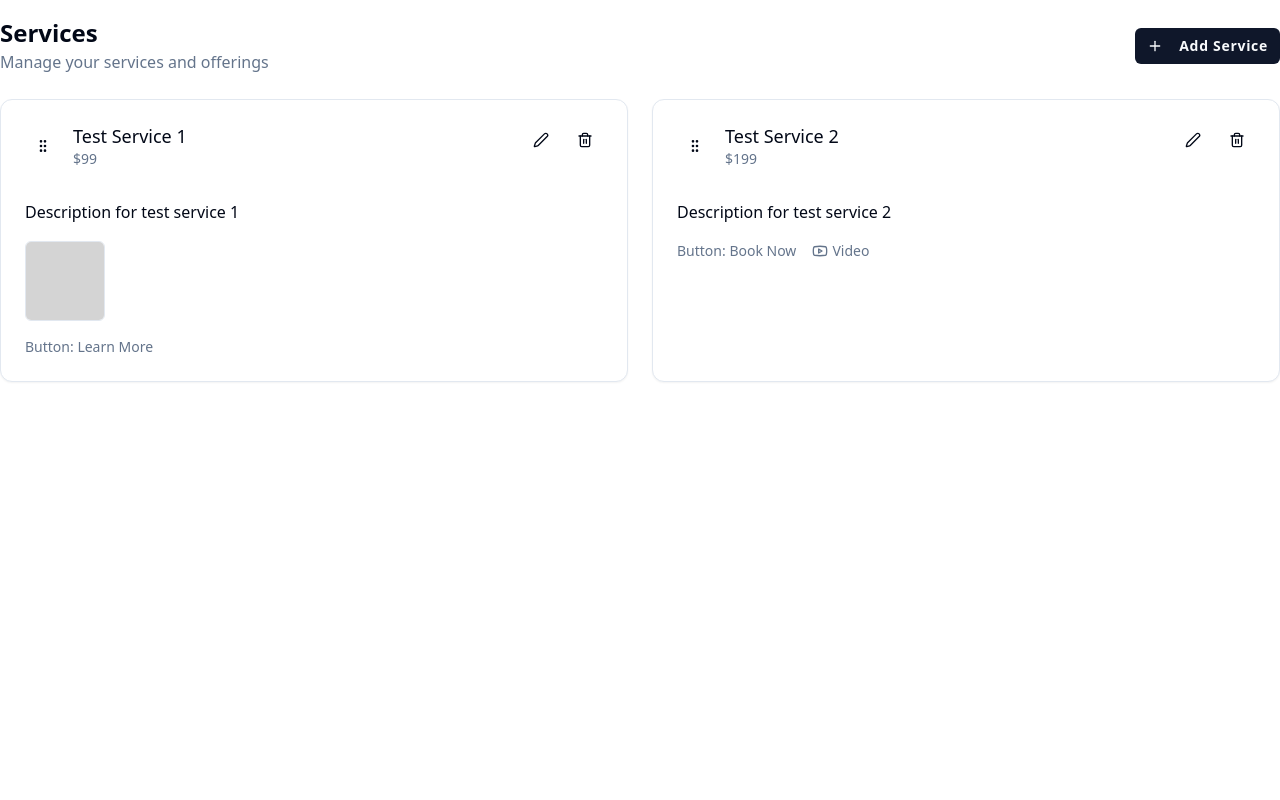
Test: Dashboard Integration Tests › should handle loading states during operations
Step 1. Click the button "Add Service" → (1208, 46), box [1135,28,1279,64]
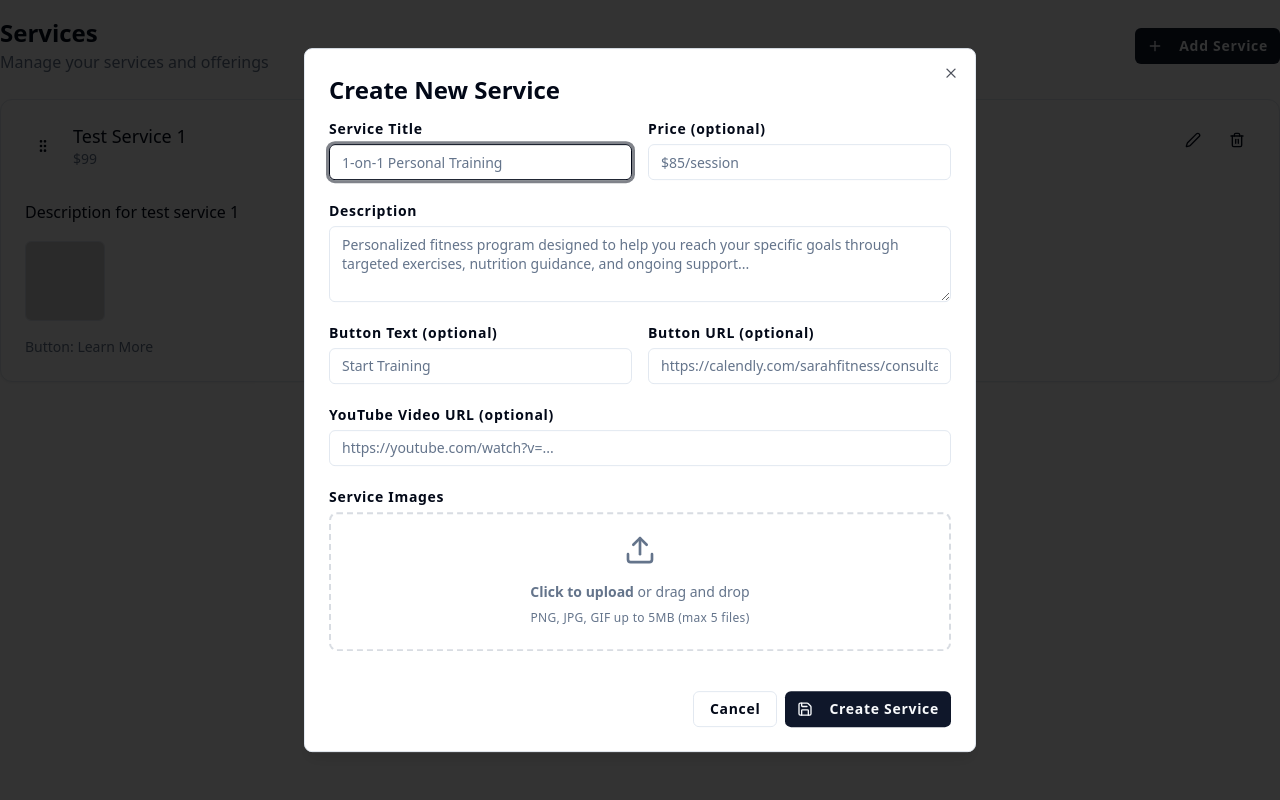
Step 2. Submit the form, box [329,122,951,727]
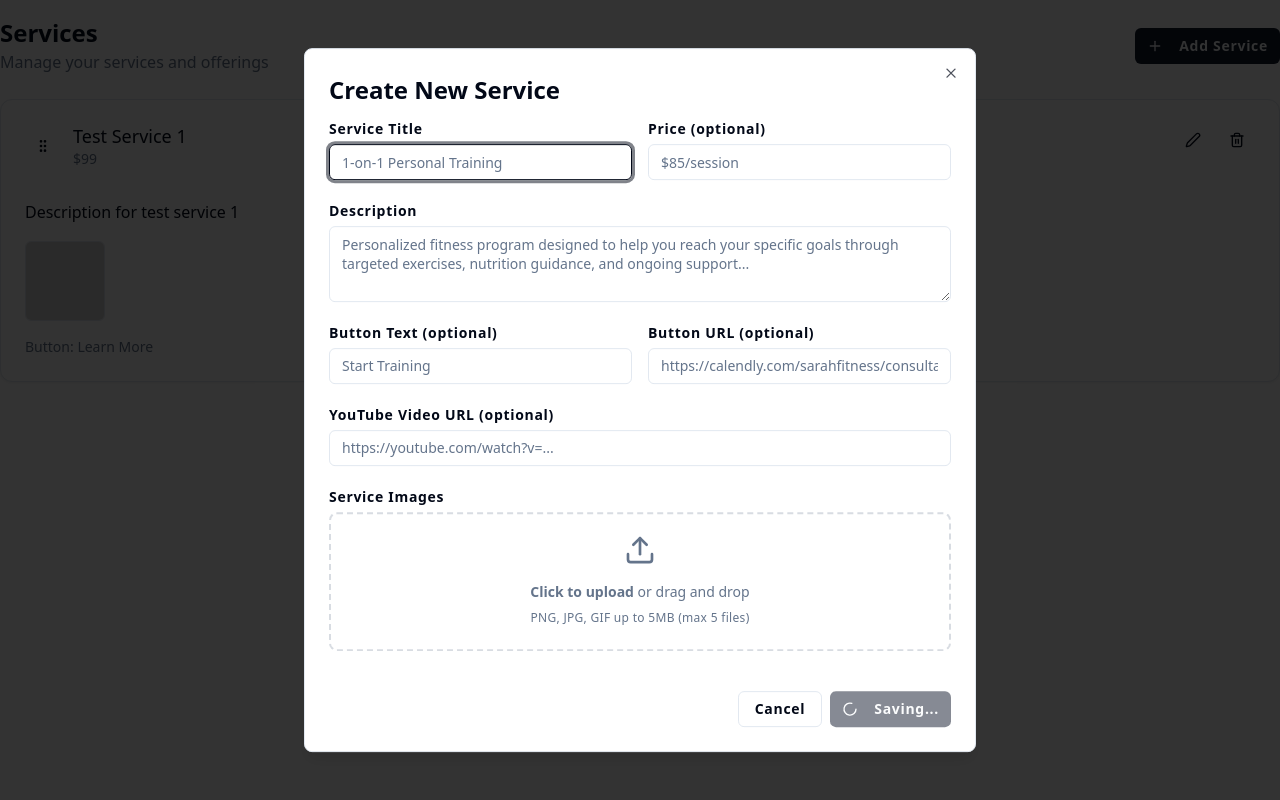
Check: the button "Saving..." is disabled, box [830,691,951,727]
